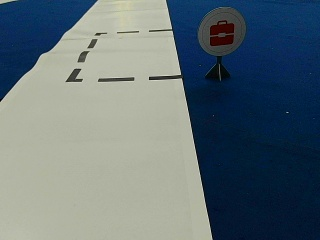company: (198, 7, 246, 55)
